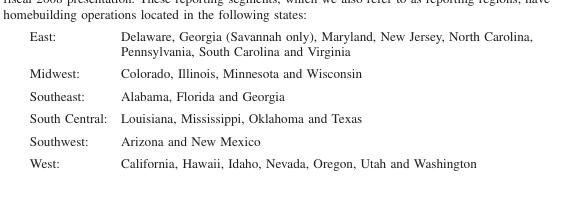table: (28, 28, 532, 170)
table column: (113, 28, 532, 170), (28, 28, 113, 170)
table row: (28, 28, 532, 61), (28, 61, 532, 84), (28, 106, 532, 129), (28, 84, 532, 106), (28, 129, 532, 151), (28, 151, 532, 170)
